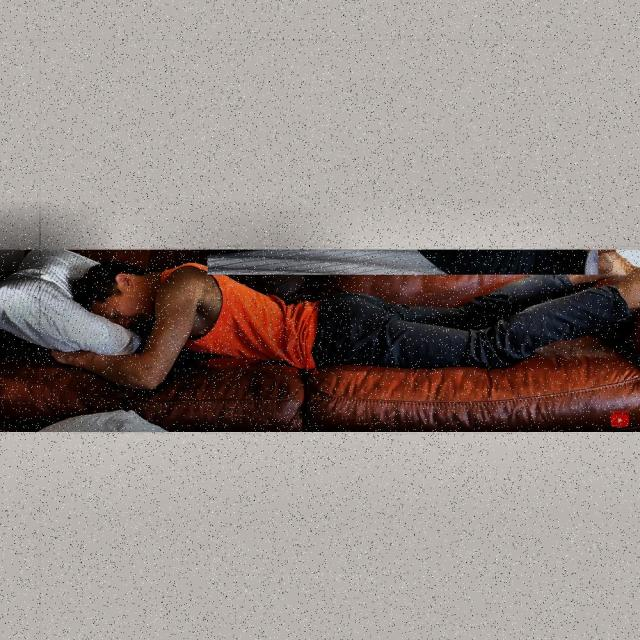Not_Supine: (55, 261, 640, 389)
